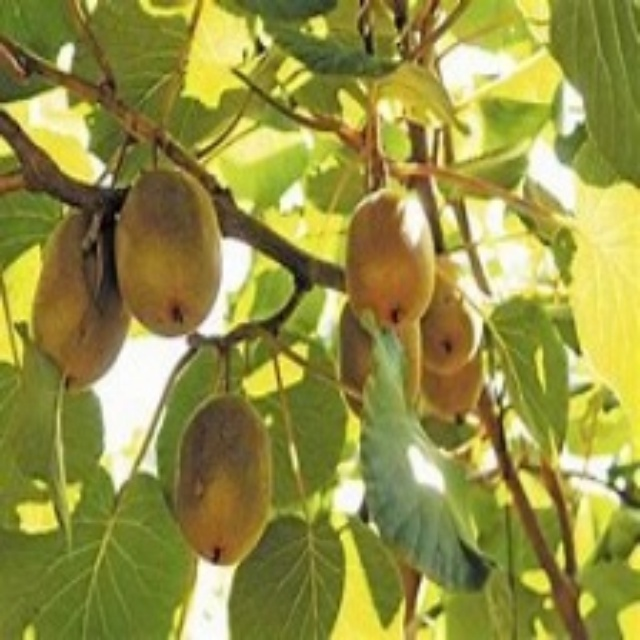kiwi: (314, 284, 512, 428), (163, 393, 289, 577), (104, 162, 224, 333), (29, 218, 131, 389), (332, 186, 437, 328)
